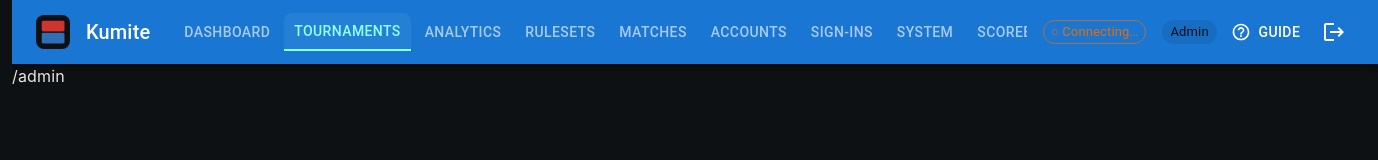
Test: AppNav › navigates when an item is clicked
Click the button "Accounts" at (749, 32), box [701, 13, 797, 51]
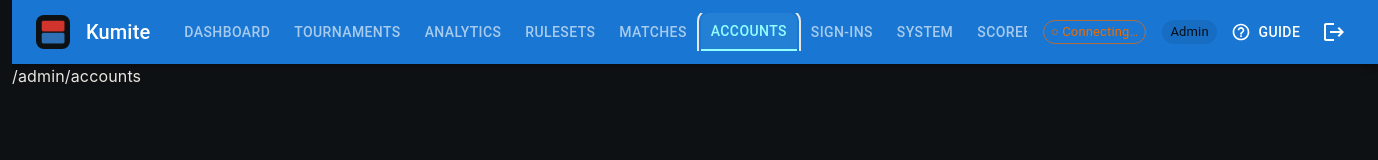
expect the text with test id "path" reads "/admin/accounts": met, box [12, 66, 141, 86]
